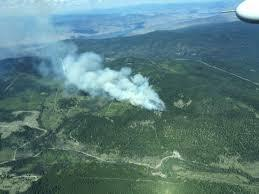yanwu: (1, 1, 167, 114)
